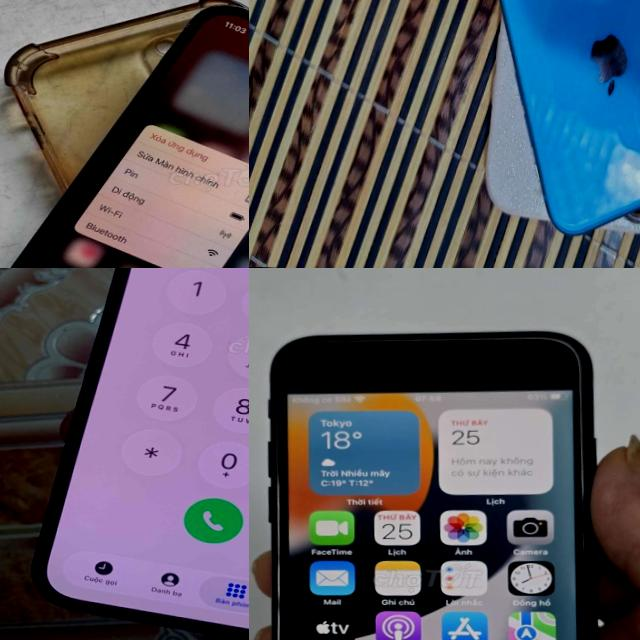gen_12_13: (29, 268, 249, 640), (0, 0, 249, 268)
gen_7_8: (249, 319, 630, 640)
gen_x_xs: (499, 0, 640, 234)
scratch: (256, 432, 296, 640)
